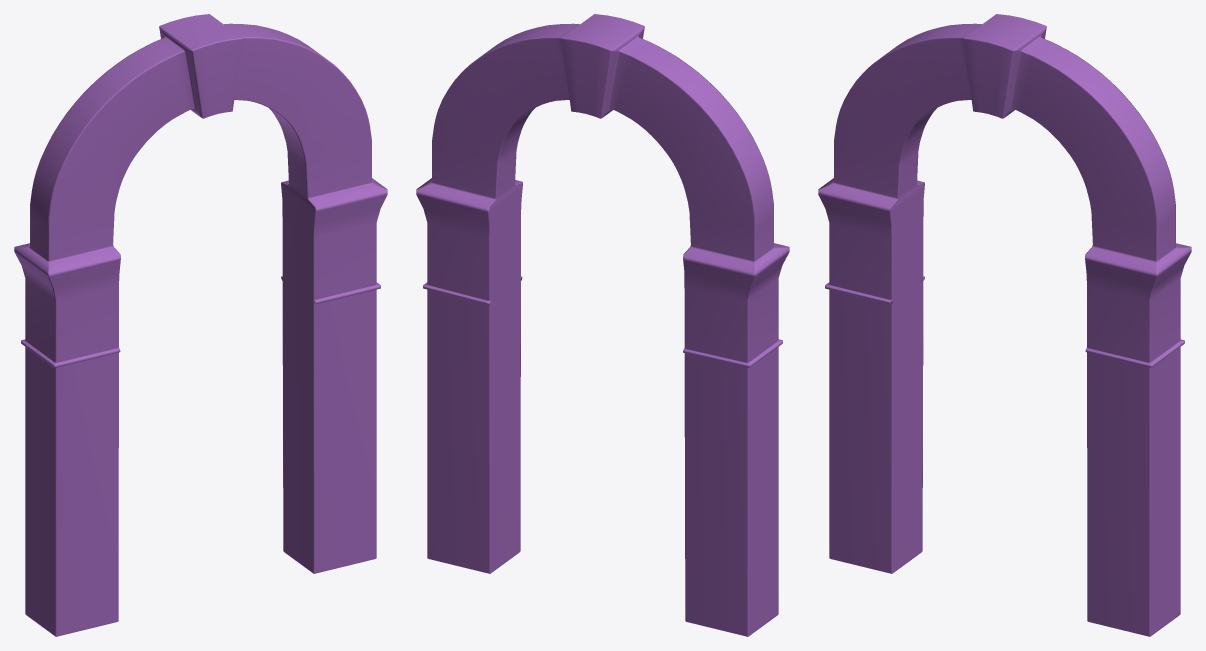
The model's file is Door1ArchFrame1.fbx.
3 views of the same model, side by side, from view 1: azimuth 30°, elevation 25°; view 2: azimuth 150°, elevation 25°; view 3: azimuth 330°, elevation 25° (orthographic).
Visible parts, largest first — view 1: Door1ArchFrame1; view 2: Door1ArchFrame1; view 3: Door1ArchFrame1.
Part boxes in pixels (box(x1,y1,x2,y2)): Door1ArchFrame1: box(14, 14, 387, 636); Door1ArchFrame1: box(416, 14, 789, 636); Door1ArchFrame1: box(818, 14, 1191, 636).
Size of the model in its own units: 192 by 301 by 34.97.
